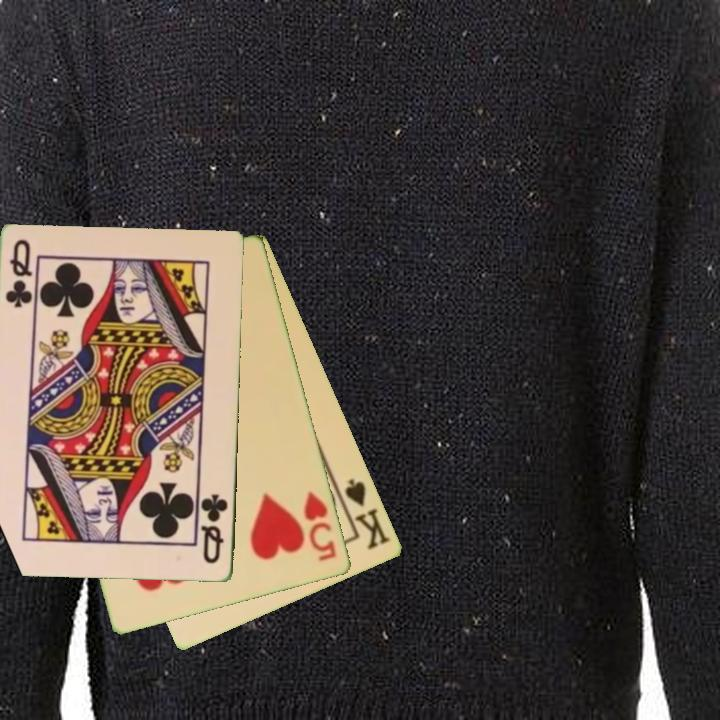5h: (301, 488, 340, 565)
Ks: (334, 475, 394, 553)
Qc: (198, 490, 231, 568), (3, 236, 34, 311)
